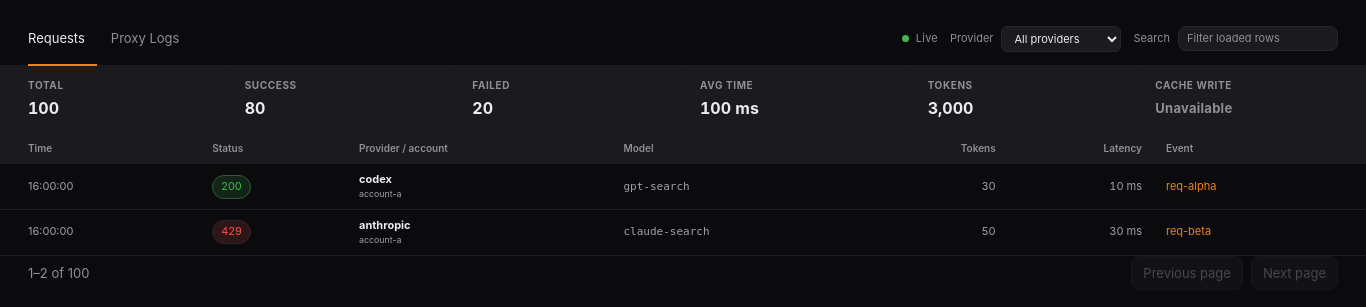
Test: Logs loaded-page search › offers query-specific recovery rather than the no-data state
In the search field named "Search loaded requests": (1258, 38) [1178,26,1338,51], type "missing-request"
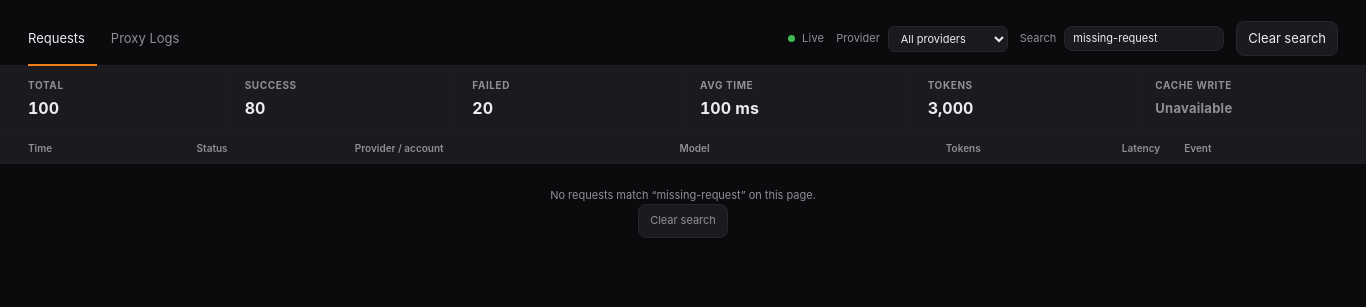
Check: the text "No requests match “missing-request” on this page." is shown, box [550,188,816,202]
Check: the button "Clear search" below "No requests match “" is enabled, box [638,204,728,238]
